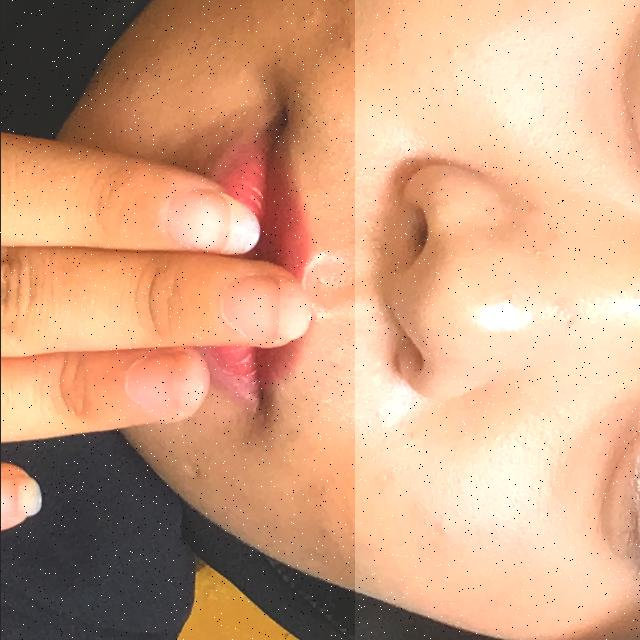ganteng: (0, 0, 354, 640)
